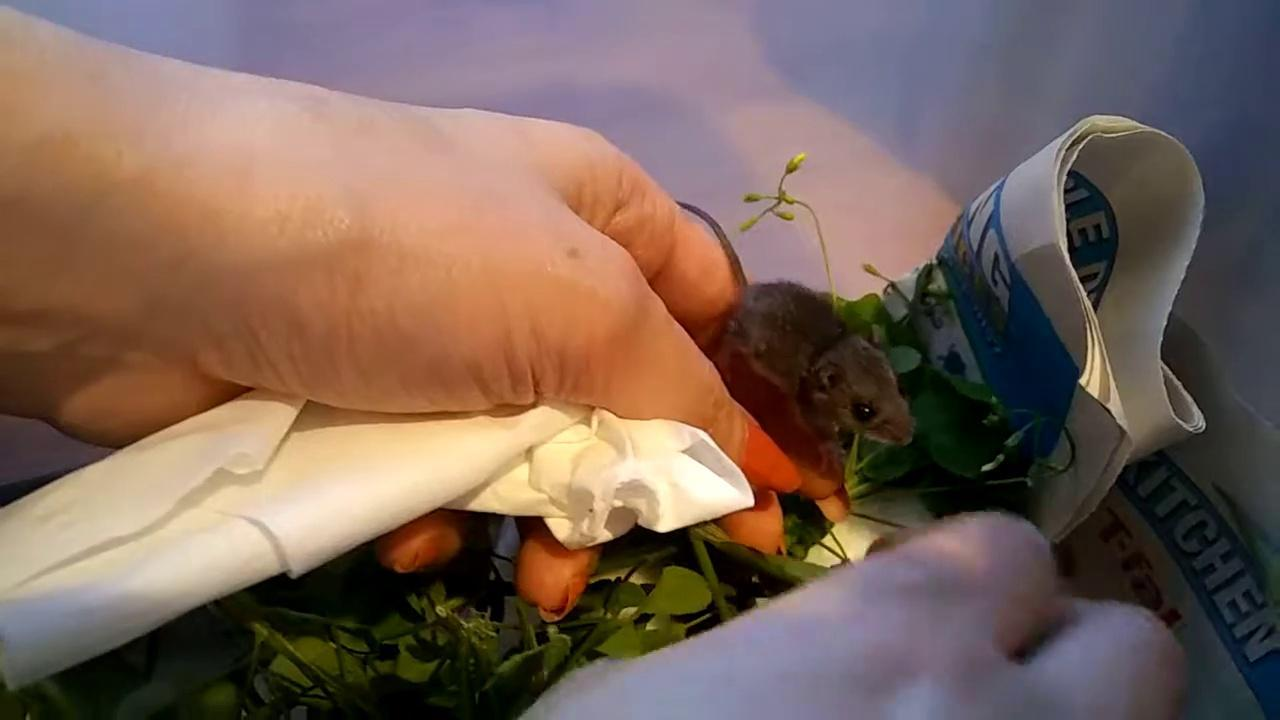rat: (677, 200, 917, 477)
